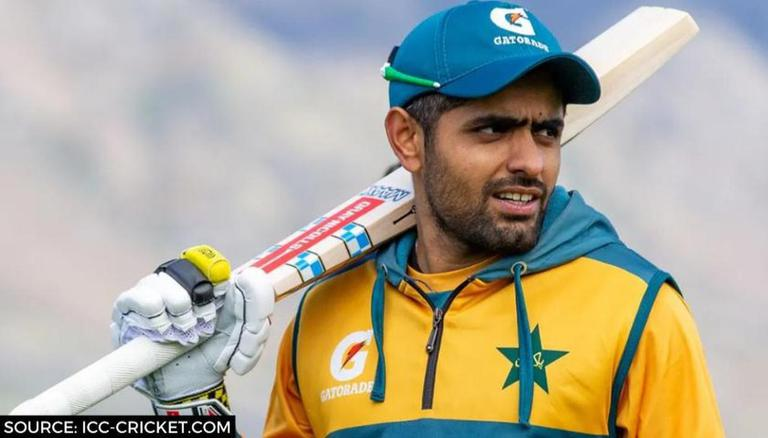NoMask: (437, 109, 563, 259)
